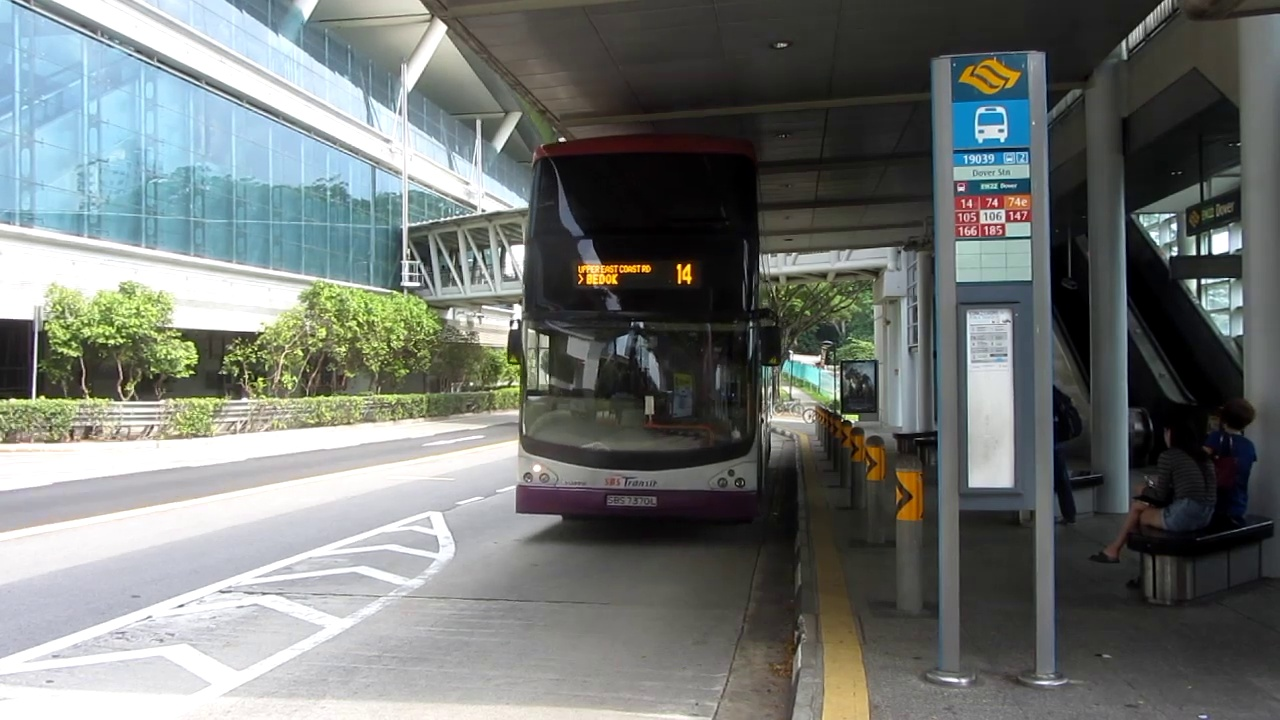bus panel: (572, 259, 700, 288)
